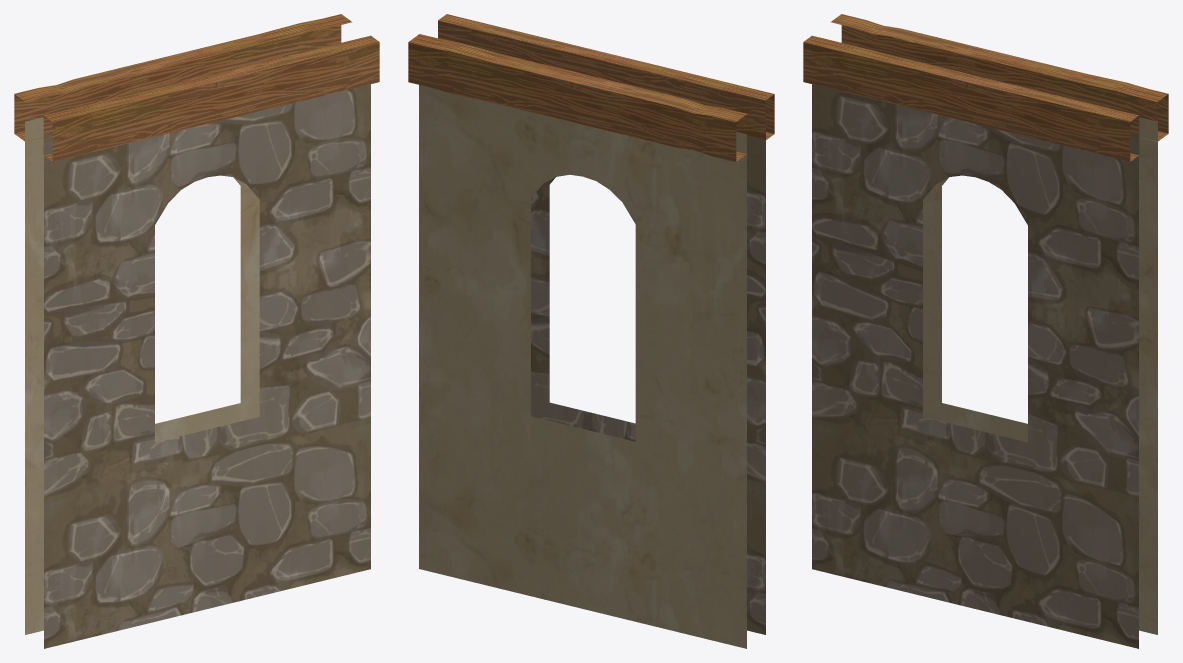
The model's file is Wall_UnevenBrick_Window_Thin_Round.gltf.
The picture shows the model from 3 angles, left to right: view 1: azimuth 30°, elevation 25°; view 2: azimuth 150°, elevation 25°; view 3: azimuth 330°, elevation 25°; orthographic projection.
Parts seen in each view (by area): view 1: Wall_UnevenBrick_Window_Thin_Round; view 2: Wall_UnevenBrick_Window_Thin_Round; view 3: Wall_UnevenBrick_Window_Thin_Round.
Part boxes in pixels (left/top/right/bottom): Wall_UnevenBrick_Window_Thin_Round: left=14, top=14, right=379, bottom=648; Wall_UnevenBrick_Window_Thin_Round: left=408, top=14, right=774, bottom=648; Wall_UnevenBrick_Window_Thin_Round: left=803, top=14, right=1168, bottom=648.
Size of the model in its own units: 2 by 3.12 by 0.4065.
Materials: 3 (3 with a texture image).
